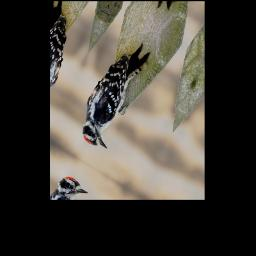Woodpecker: (72, 28, 152, 155)
